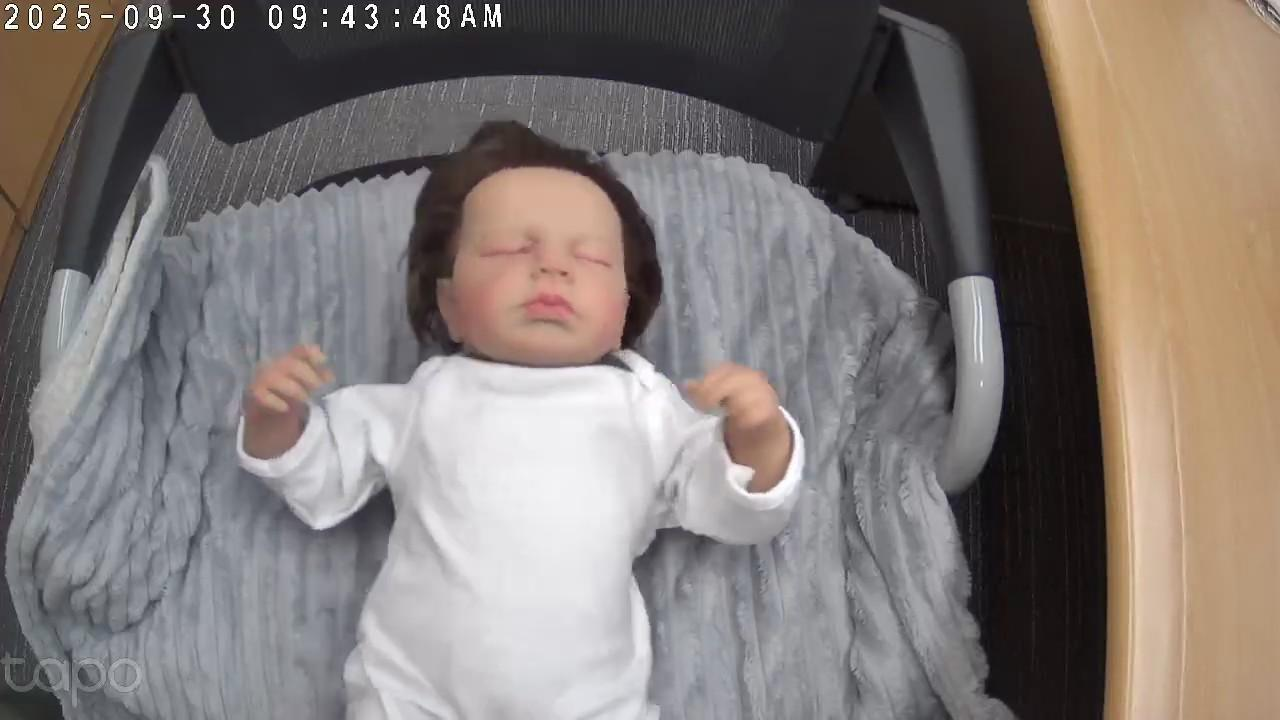hand: (681, 360, 780, 433), (243, 345, 335, 420)
